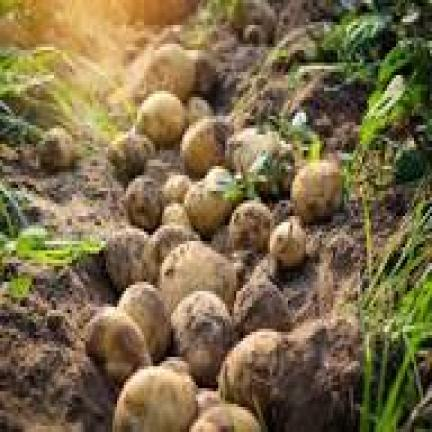potato: (218, 332, 288, 413), (173, 291, 232, 382), (160, 241, 236, 310), (113, 366, 196, 429), (86, 307, 148, 379), (117, 282, 169, 360), (230, 128, 288, 191), (184, 169, 230, 235), (234, 279, 288, 332), (292, 160, 340, 219), (182, 116, 230, 175), (135, 91, 184, 147), (146, 225, 196, 279), (144, 44, 194, 97), (106, 229, 146, 288), (108, 131, 153, 178), (126, 175, 162, 229), (232, 200, 272, 247), (191, 404, 259, 429), (38, 128, 76, 169), (270, 216, 299, 266), (189, 50, 216, 94), (162, 203, 191, 229), (164, 175, 189, 200), (189, 97, 212, 122), (198, 388, 220, 410), (162, 356, 189, 373), (245, 25, 266, 41)
